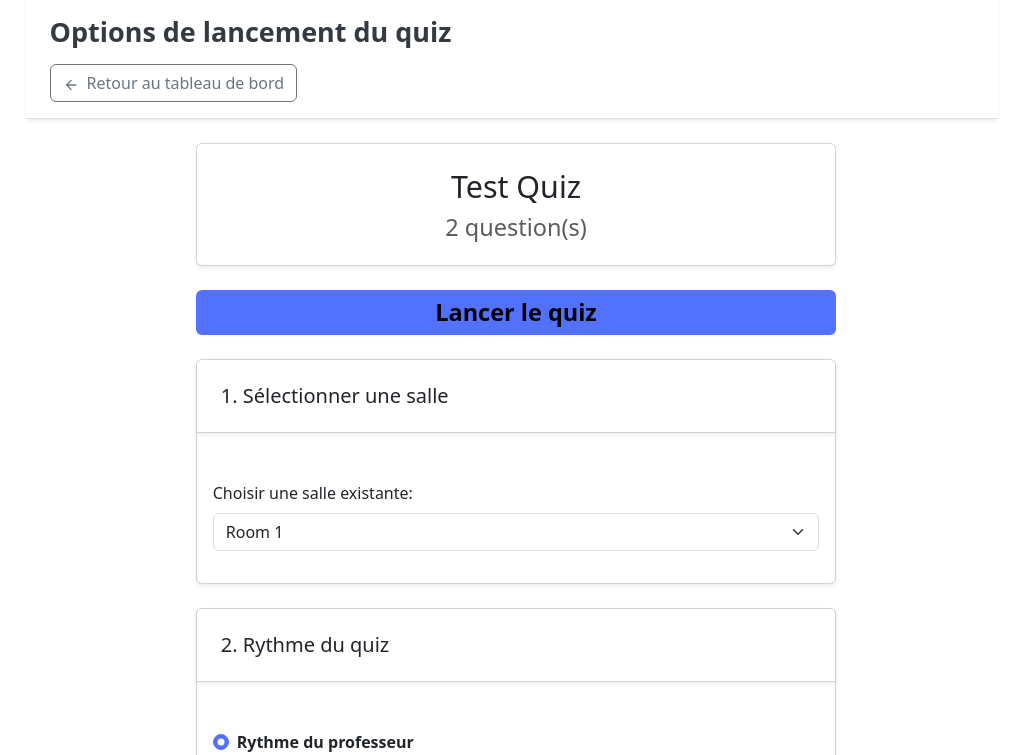
Test case: ManageRoomV2 Component › WebSocket Integration › should handle WebSocket connection error
Select "Room 1" in the dropdown at (516, 532), box [213,513,819,551]
Click the button "Lancer le quiz" at (516, 312), box [196,290,836,335]
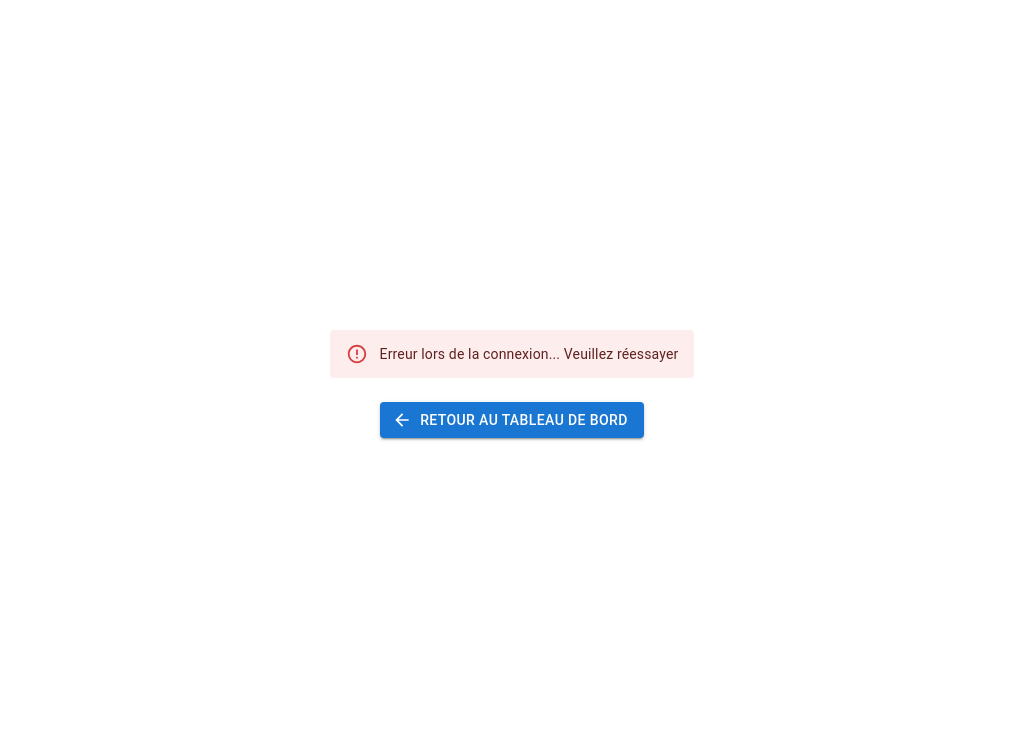
Expected: the text "Erreur lors de la connexion... Veuillez réessayer" is shown, [380,346,678,362]
